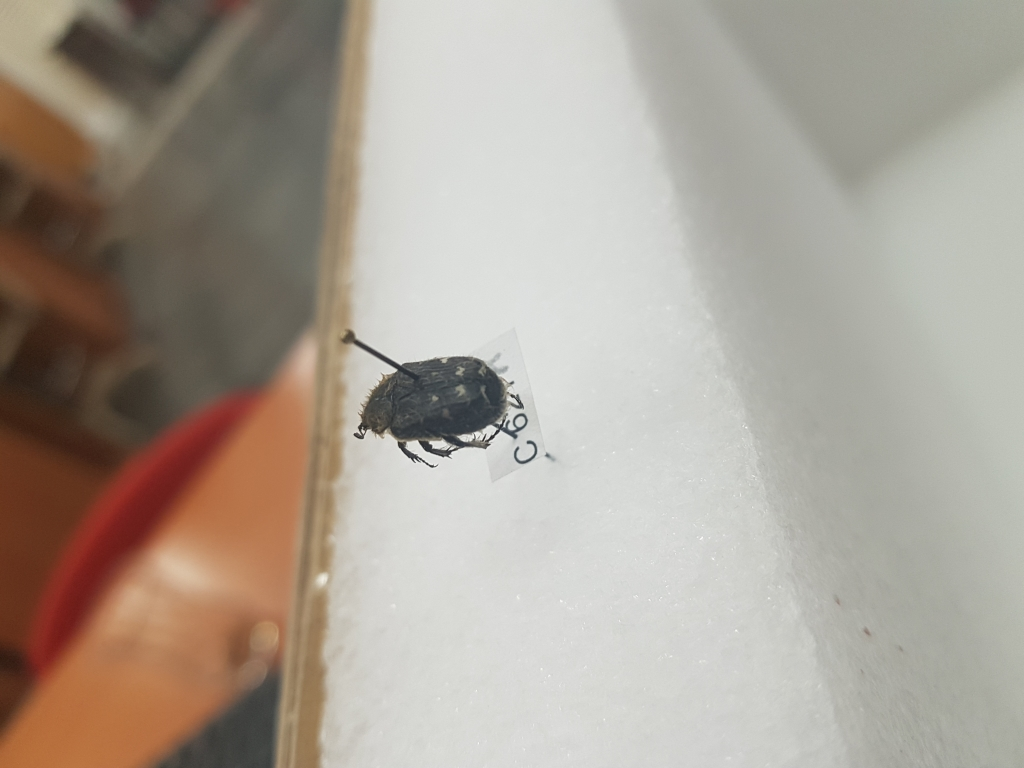Tropinota_senicula: (351, 351, 523, 476)
